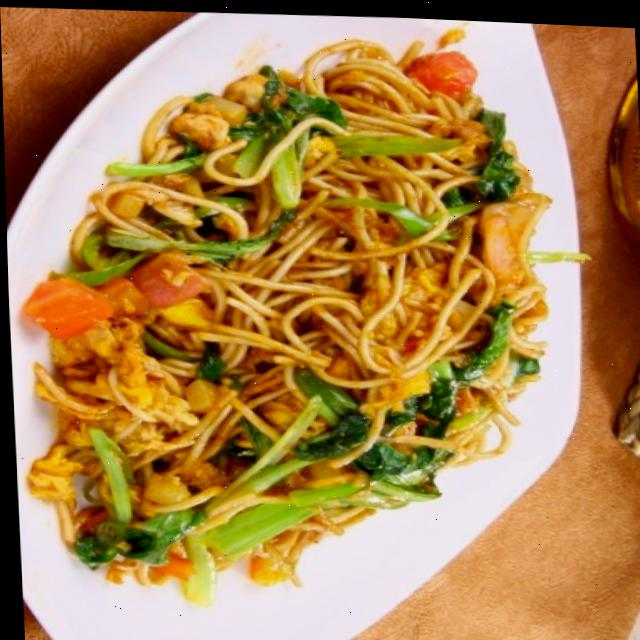面条主食: (10, 21, 573, 585)
